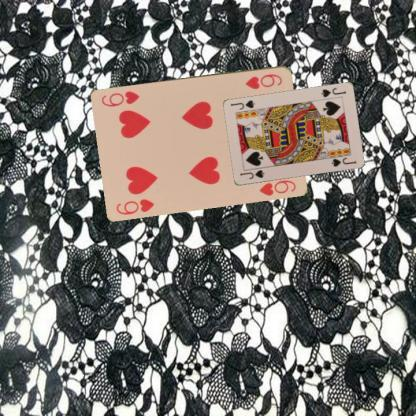6h: (114, 196, 156, 216), (242, 71, 284, 90)
Js: (318, 85, 347, 99), (238, 168, 265, 180)
